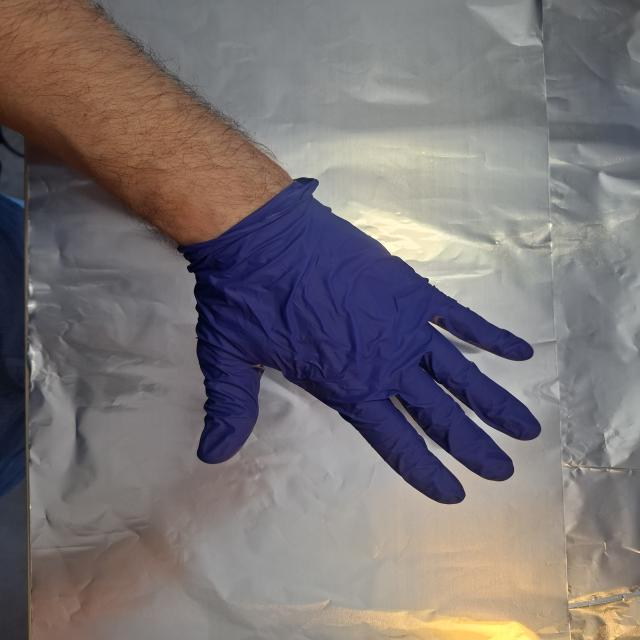glove_on: (177, 177, 545, 507)
